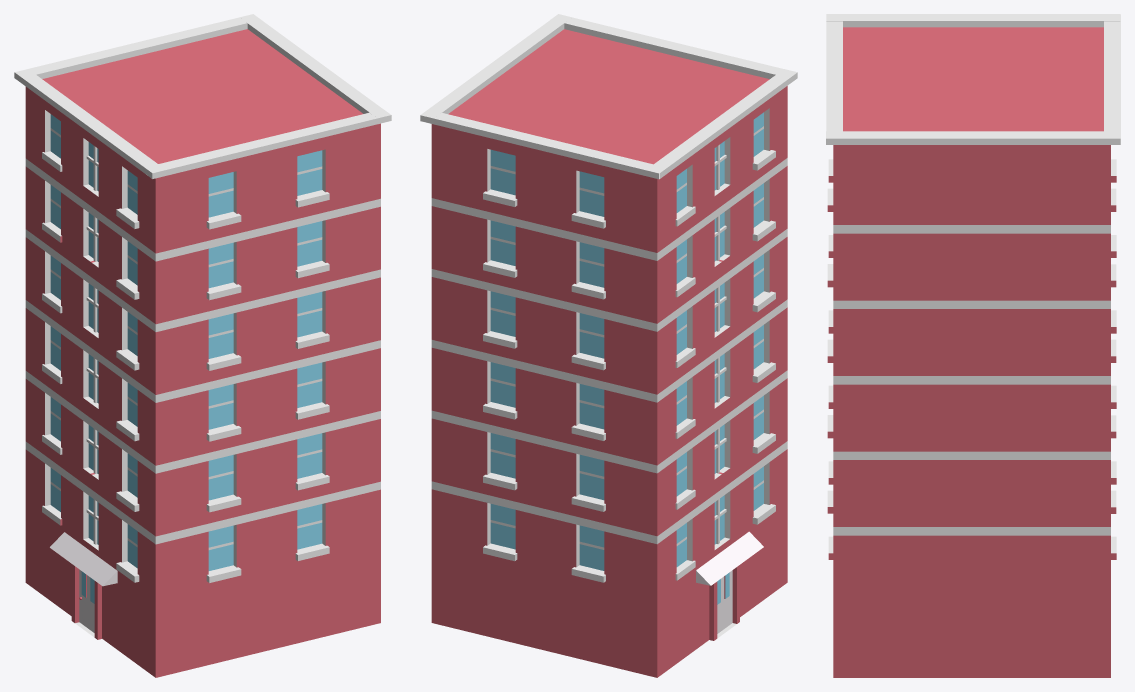
File: prédio 1.fbx
3 renders of one model, left to right at view 1: azimuth 30°, elevation 25°; view 2: azimuth 150°, elevation 25°; view 3: azimuth 270°, elevation 25°, orthographic. The views are drawn at different scales.
Visible parts, largest first — view 1: Cube; view 2: Cube; view 3: Cube.
Boxes of the visible parts, bbox=[...] form: Cube: bbox=[14, 14, 391, 677]; Cube: bbox=[420, 14, 797, 677]; Cube: bbox=[826, 14, 1120, 677].
Bounding box in the file's own units: 1097 × 2159 × 1062.
